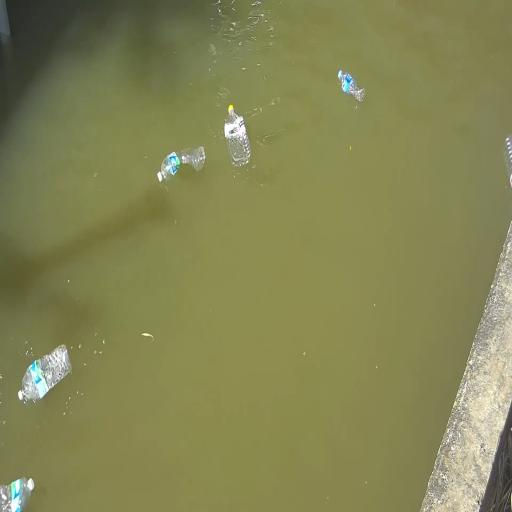plastic: (17, 345, 71, 401), (157, 147, 205, 182), (224, 105, 250, 166), (0, 477, 34, 511), (338, 70, 365, 102), (504, 135, 511, 187)
